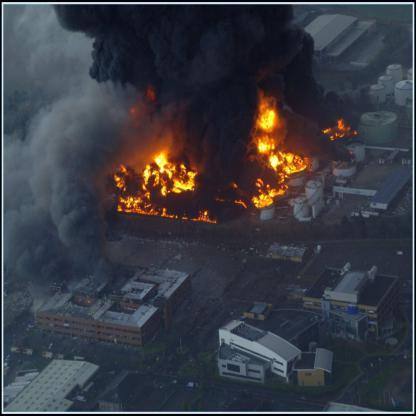fire: (99, 91, 355, 226)
